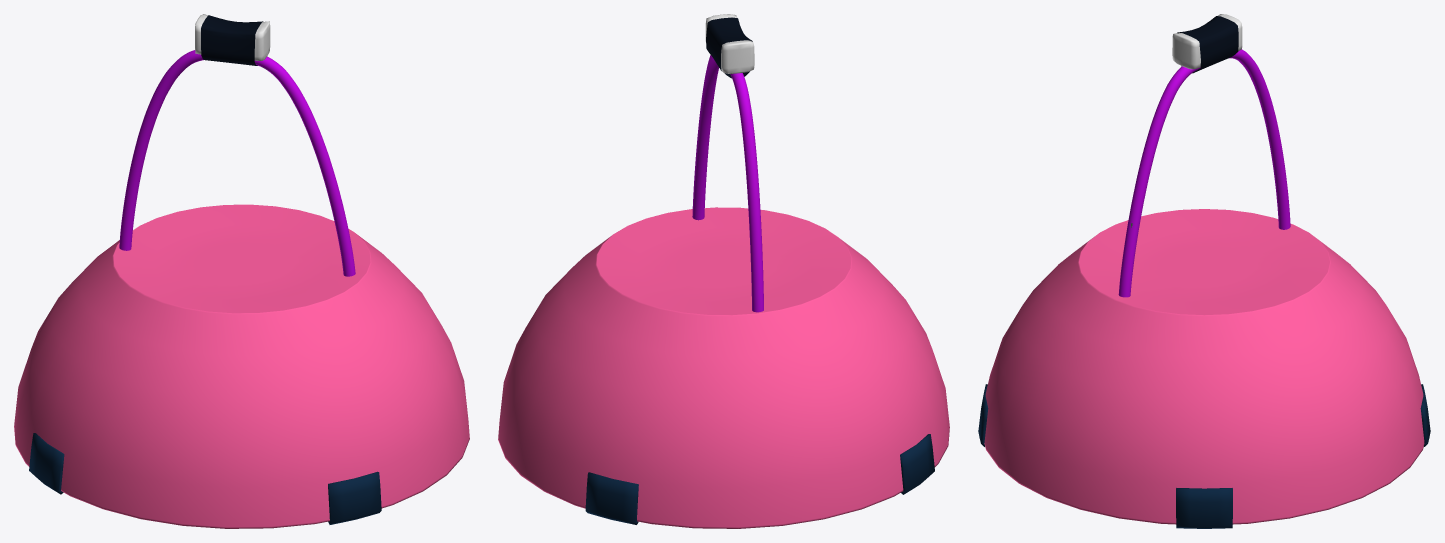
File: Brain_Coral.dae
3 renders of one model, left to right at view 1: azimuth 30°, elevation 25°; view 2: azimuth 150°, elevation 25°; view 3: azimuth 270°, elevation 25°, orthographic. The views are drawn at different scales.
Parts seen in each view (by area): view 1: Bowl, Rope, Tape, Velcro_Patch.001, Velcro_Patch.003, Float; view 2: Bowl, Rope, Velcro_Patch.002, Velcro_Patch.003, Float, Tape; view 3: Bowl, Rope, Velcro_Patch, Tape, Float.
Boxes of the visible parts, x1,y1,x2,y2 form: Bowl: [14, 204, 469, 528]; Rope: [119, 50, 355, 276]; Tape: [201, 15, 263, 65]; Velcro_Patch.001: [328, 471, 381, 524]; Velcro_Patch.003: [29, 433, 64, 494]; Float: [195, 14, 270, 60]; Bowl: [498, 207, 949, 528]; Rope: [692, 55, 763, 312]; Velcro_Patch.002: [585, 472, 638, 524]; Velcro_Patch.003: [900, 434, 934, 494]; Float: [705, 14, 754, 73]; Tape: [706, 17, 752, 78]; Bowl: [984, 209, 1424, 524]; Rope: [1118, 49, 1290, 297]; Velcro_Patch: [1176, 488, 1232, 528]; Tape: [1177, 16, 1238, 73]; Float: [1172, 14, 1242, 69].
Bounding box in the file's own units: 1.19 × 1.19 × 1.17.
